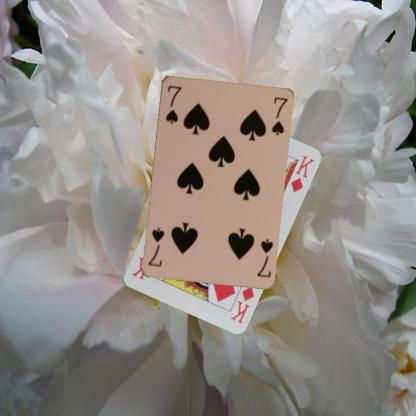7s: (162, 82, 183, 125), (254, 236, 274, 278)
Kd: (228, 283, 256, 325)
